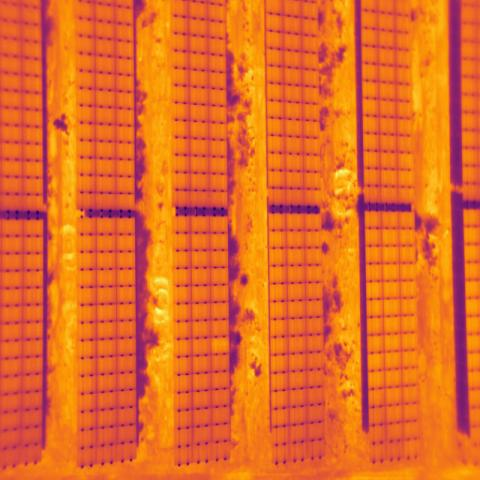fault: (211, 338, 230, 354)
